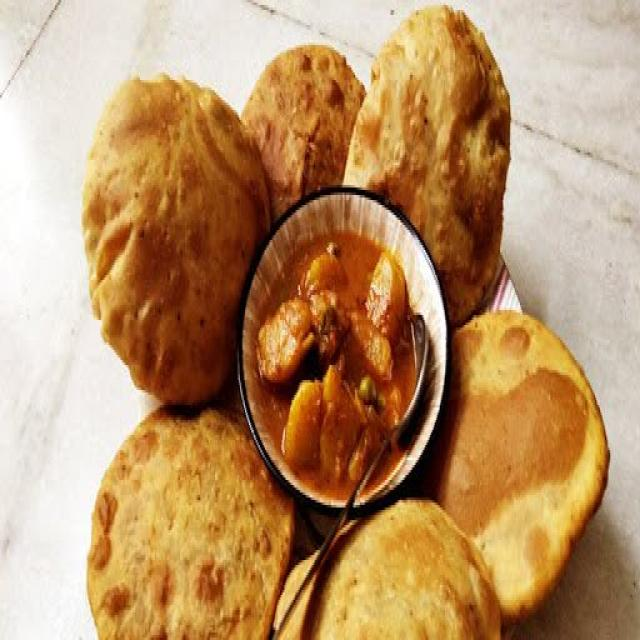potato: (261, 204, 436, 482)
puri: (437, 209, 606, 632), (80, 74, 234, 390), (77, 417, 266, 640), (370, 20, 504, 198)
